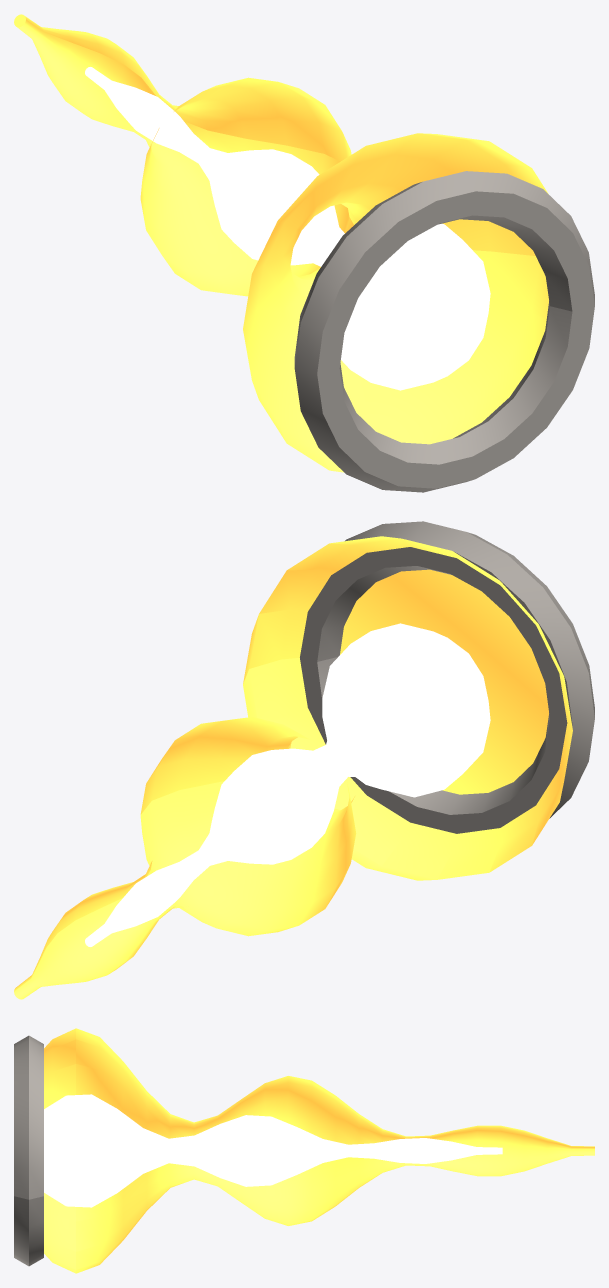
The model's file is vfx-mesh-library-afterburner-flare-6ca5a68a__21915.glb.
The picture shows the model from 3 angles, top to bottom: view 1: azimuth 30°, elevation 25°; view 2: azimuth 150°, elevation 25°; view 3: azimuth 270°, elevation 25°; orthographic projection. The views are drawn at different scales.
Visible parts, largest first — view 1: afterburner-flare; view 2: afterburner-flare; view 3: afterburner-flare.
Part boxes in pixels (bbox=[...]): afterburner-flare: bbox=[14, 14, 594, 492]; afterburner-flare: bbox=[14, 521, 594, 999]; afterburner-flare: bbox=[14, 1028, 594, 1273].
Bounding box in the file's own units: 0.4266 × 0.4202 × 1.01.
